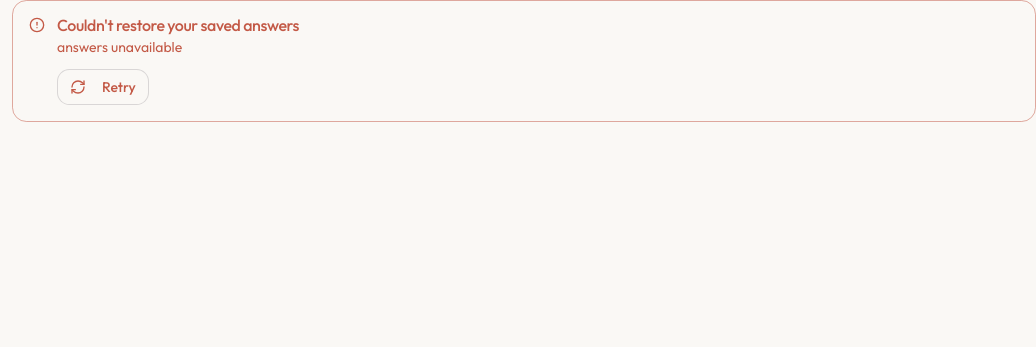
Test: InlineQuizPlayer lifecycle › blocks honestly when the saved answers of a pending attempt cannot be loaded
expect the heading "Couldn't restore your saved answers" is shown: met, box 57,15 -> 299,35
expect the radio button labelled "Four" is not shown: met
Click the button "Retry" at (103, 87), box 57,69 -> 149,105
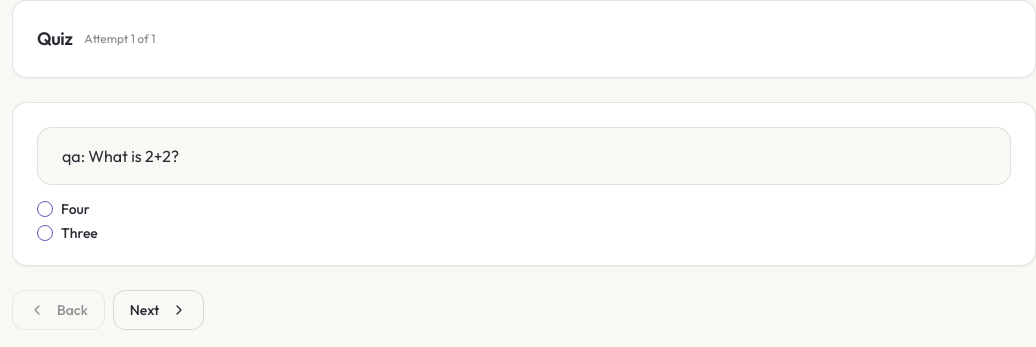
expect the radio button named "Four" next to "Four" is shown: met, box 37,201 -> 53,217
